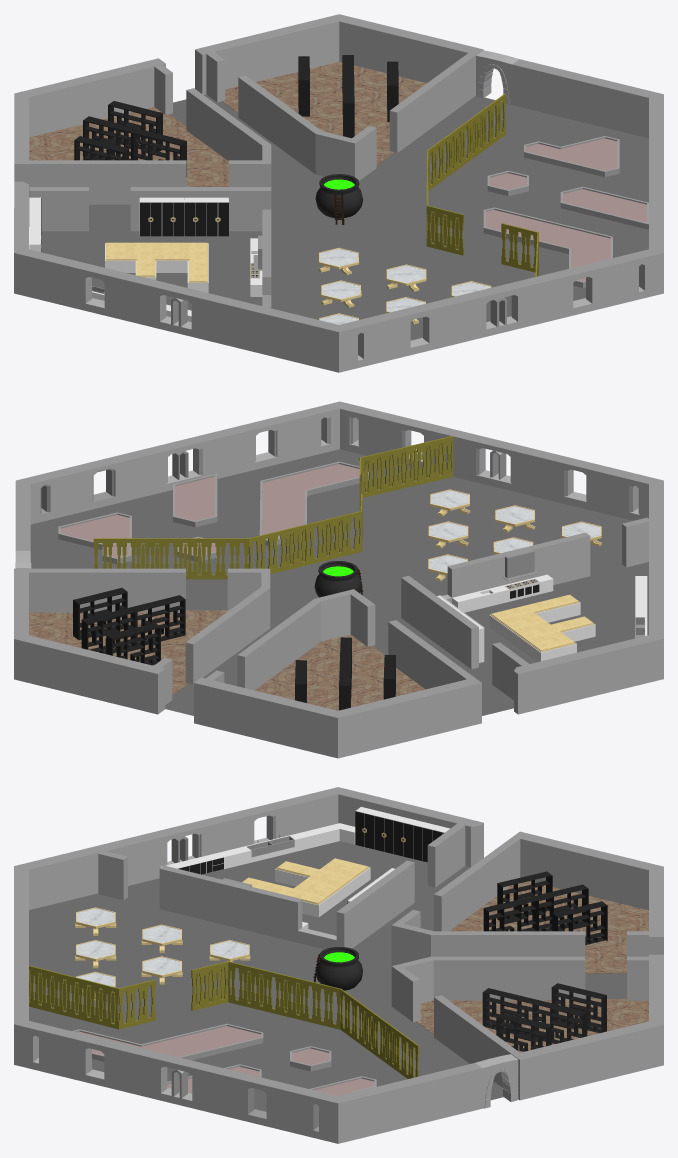
File: COCINA.fbx
3 views of the same model, one above another, from view 1: azimuth 30°, elevation 25°; view 2: azimuth 150°, elevation 25°; view 3: azimuth 270°, elevation 25° (orthographic).
Visible parts, largest first — view 1: Plane.007, Outer_Walls.015, Plane.005, WallI_3.002, Objeto_3401.001, Objeto_238, Objeto_3294.004, Objeto_3294.005, Objeto_3273, Objeto_3271, Pot.014, Entrance.003 (+14 smaller); view 2: Plane.007, Outer_Walls.015, WallI_3.002, Plane.005, Objeto_3401.001, Objeto_66.016, Objeto_238, Cube.195_5, Objeto_3271, Cube.195_9, Cube.195_7, Objeto_3273 (+17 smaller); view 3: Plane.007, Outer_Walls.015, WallI_3.002, Plane.005, Objeto_66.016, Objeto_3401.001, Objeto_3421.001, Objeto_238, Objeto_3294.002, Cube.195_5, Pot.014, Entrance.003 (+20 smaller).
Part boxes in pixels (<box>): Plane.007: <box>14,14,663,372</box>; Outer_Walls.015: <box>41,94,648,340</box>; Plane.005: <box>29,62,426,186</box>; WallI_3.002: <box>29,187,271,308</box>; Objeto_3401.001: <box>105,242,208,292</box>; Objeto_238: <box>486,210,610,281</box>; Objeto_3294.004: <box>139,197,184,236</box>; Objeto_3294.005: <box>184,197,228,236</box>; Objeto_3273: <box>526,138,617,170</box>; Objeto_3271: <box>563,189,646,222</box>; Pot.014: <box>315,174,362,218</box>; Entrance.003: <box>476,50,518,104</box>; Plane.007: <box>14,401,663,758</box>; Outer_Walls.015: <box>30,449,648,715</box>; WallI_3.002: <box>401,517,650,700</box>; Plane.005: <box>29,610,425,710</box>; Objeto_3401.001: <box>489,594,595,661</box>; Objeto_66.016: <box>248,511,362,573</box>; Objeto_238: <box>262,464,364,539</box>; Cube.195_5: <box>106,623,160,665</box>; Objeto_3271: <box>175,476,215,520</box>; Cube.195_9: <box>81,607,136,653</box>; Cube.195_7: <box>131,595,185,645</box>; Objeto_3273: <box>60,515,129,557</box>; Plane.007: <box>14,787,663,1143</box>; Outer_Walls.015: <box>29,841,626,1111</box>; WallI_3.002: <box>98,823,465,949</box>; Plane.005: <box>416,881,648,1052</box>; Objeto_66.016: <box>227,961,340,1029</box>; Objeto_3401.001: <box>242,858,370,917</box>; Objeto_3421.001: <box>218,823,355,869</box>; Objeto_238: <box>77,1026,261,1056</box>; Objeto_3294.002: <box>374,811,418,858</box>; Cube.195_5: <box>551,983,606,1033</box>; Pot.014: <box>316,947,362,990</box>; Entrance.003: <box>475,1054,518,1108</box>.
Size of the model in its own units: 4367 by 5031 by 307.
